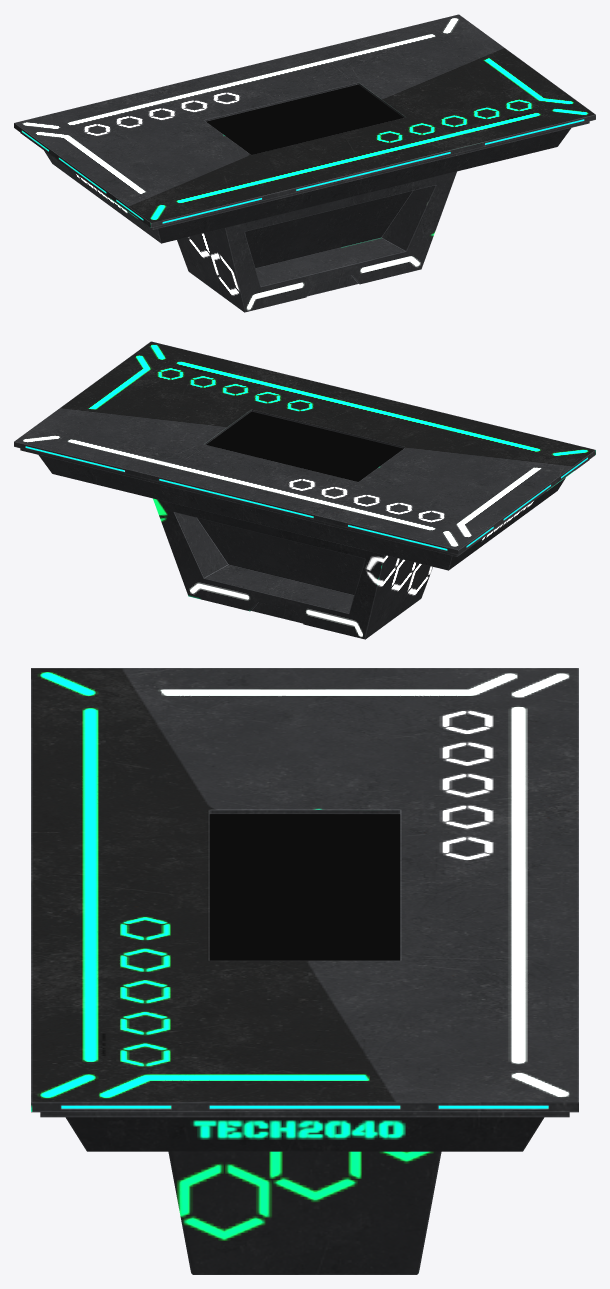
Rendered from scifi_table_v1_matte.glb.
3 renders of one model, top to bottom at view 1: azimuth 30°, elevation 25°; view 2: azimuth 150°, elevation 25°; view 3: azimuth 270°, elevation 25°, orthographic. The views are drawn at different scales.
Visible parts, largest first — view 1: Stand, Top; view 2: Stand, Top; view 3: Stand, Top.
Part boxes in pixels (x1,y1,x2,y2): Stand: [14, 14, 595, 243]; Top: [177, 171, 456, 312]; Stand: [14, 341, 595, 570]; Top: [153, 498, 432, 639]; Stand: [31, 668, 578, 1151]; Top: [168, 1151, 441, 1274].
Bounding box in the file's own units: 0.1089 × 0.0355 × 0.0581.
1 material, 1 textured.
